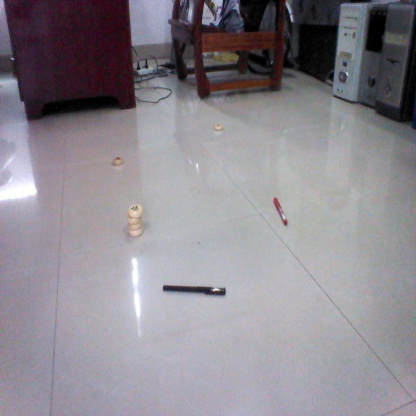chess: (126, 201, 145, 239), (106, 154, 130, 168), (211, 122, 225, 133)
pen: (162, 281, 228, 299), (272, 194, 289, 226)
